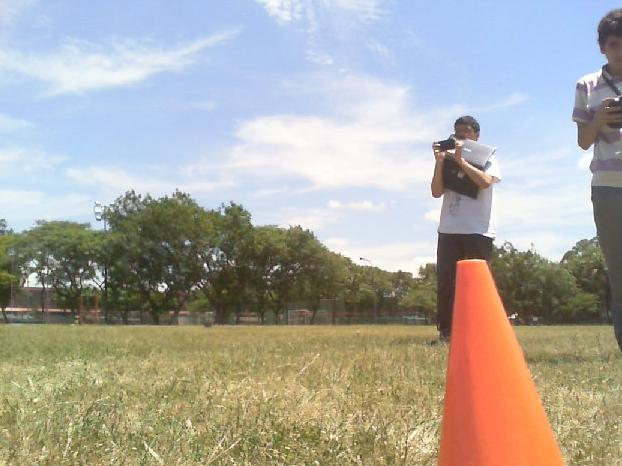0 cone: (436, 259, 568, 466)
